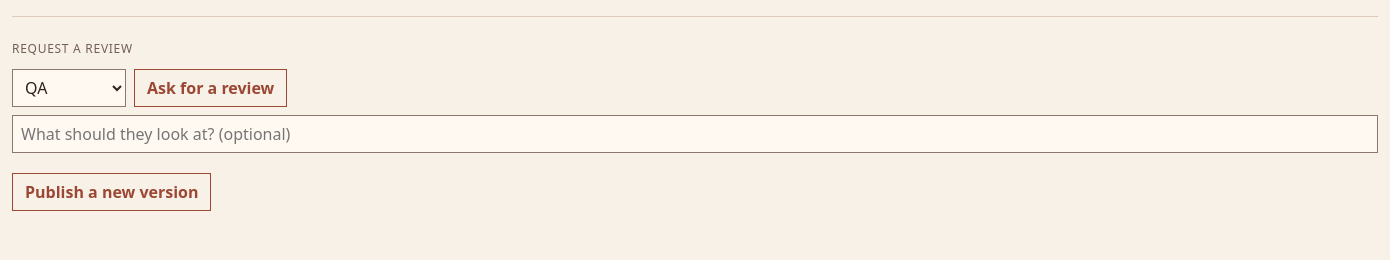
Test: DocControls › requests a review by posting a question to the chosen role on the scope thread
Step 1. Select "QA" in the dropdown with test id "review-role" → x=69, y=88, box x1=12 y1=69 x2=126 y2=107
Step 2. Click the button "Ask for a review" → x=211, y=88, box x1=134 y1=69 x2=287 y2=107
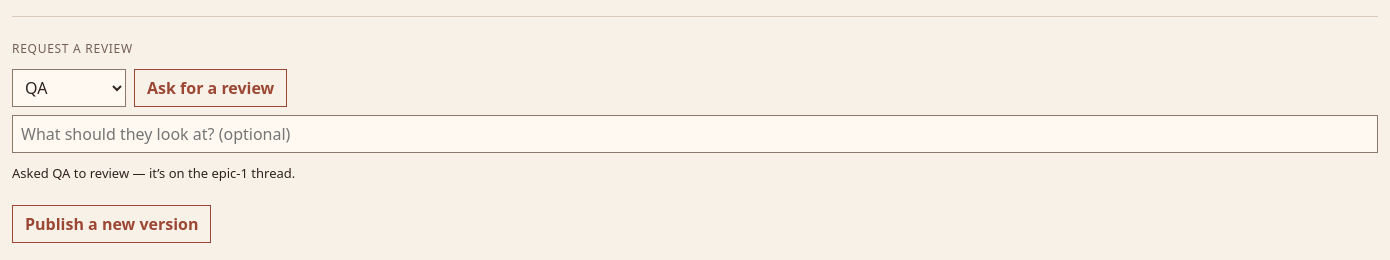
Expected: the text "Asked QA to review — it’s on the epic-1 thread." is shown, x1=12 y1=164 x2=295 y2=182
